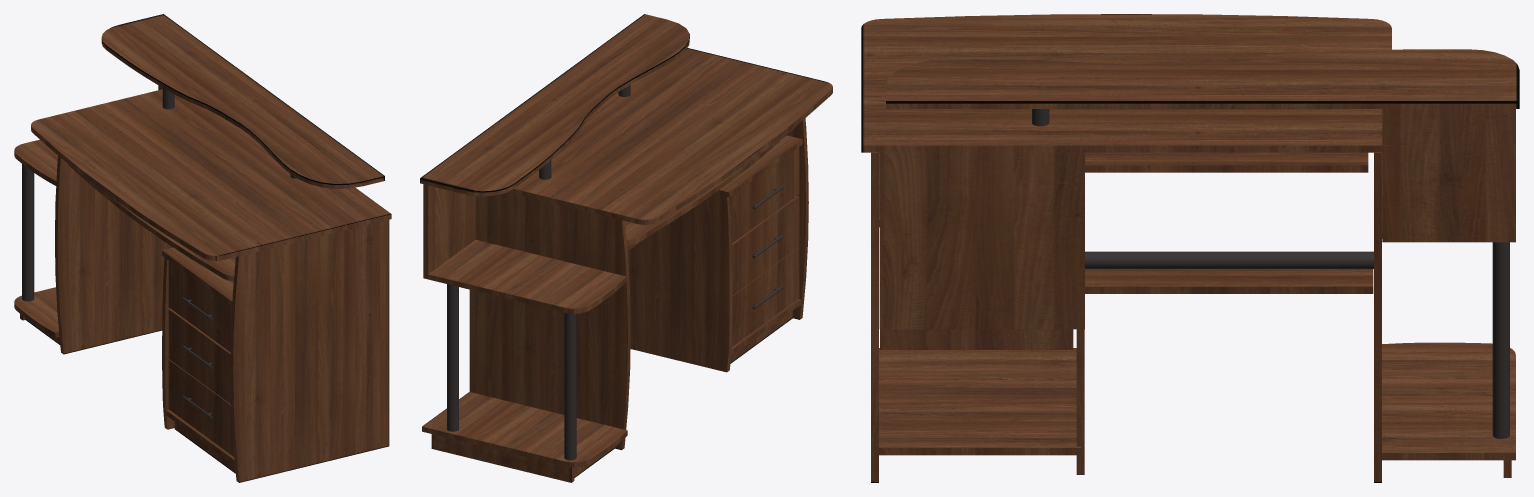
Rendered from table.glb.
The picture shows the model from 3 angles, left to right: view 1: azimuth 30°, elevation 25°; view 2: azimuth 150°, elevation 25°; view 3: azimuth 270°, elevation 25°; orthographic projection. The views are drawn at different scales.
Parts seen in each view (by area): view 1: 3DSMeshMatrix (×15); view 2: 3DSMeshMatrix (×18); view 3: 3DSMeshMatrix (×14).
Boxes of the visible parts, x1=… form: 3DSMeshMatrix (×15): x1=14, y1=14, x2=391, y2=482; 3DSMeshMatrix (×18): x1=420, y1=14, x2=832, y2=482; 3DSMeshMatrix (×14): x1=861, y1=14, x2=1519, y2=482.
Size of the model in its own units: 24.94 by 33.47 by 52.28.
2 materials, 1 textured.
